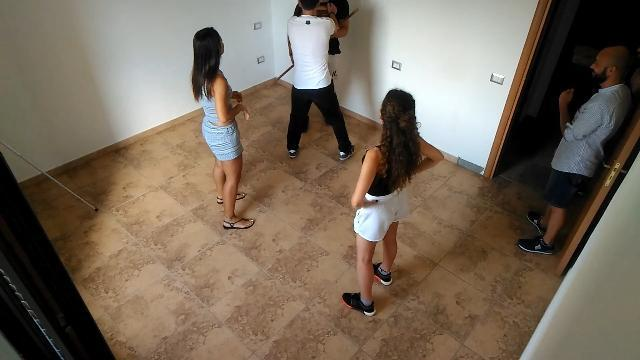non-violence: (515, 44, 640, 263), (344, 86, 440, 316), (186, 17, 258, 229)
violence: (269, 0, 361, 162)
